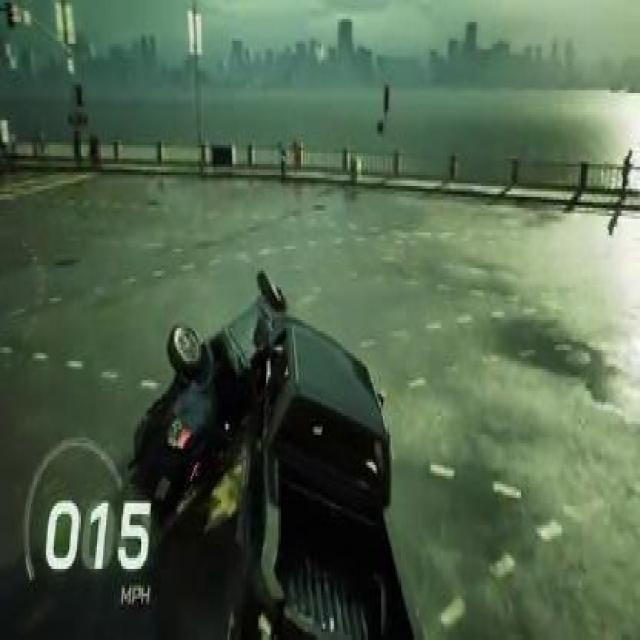accident: (126, 266, 426, 638)
